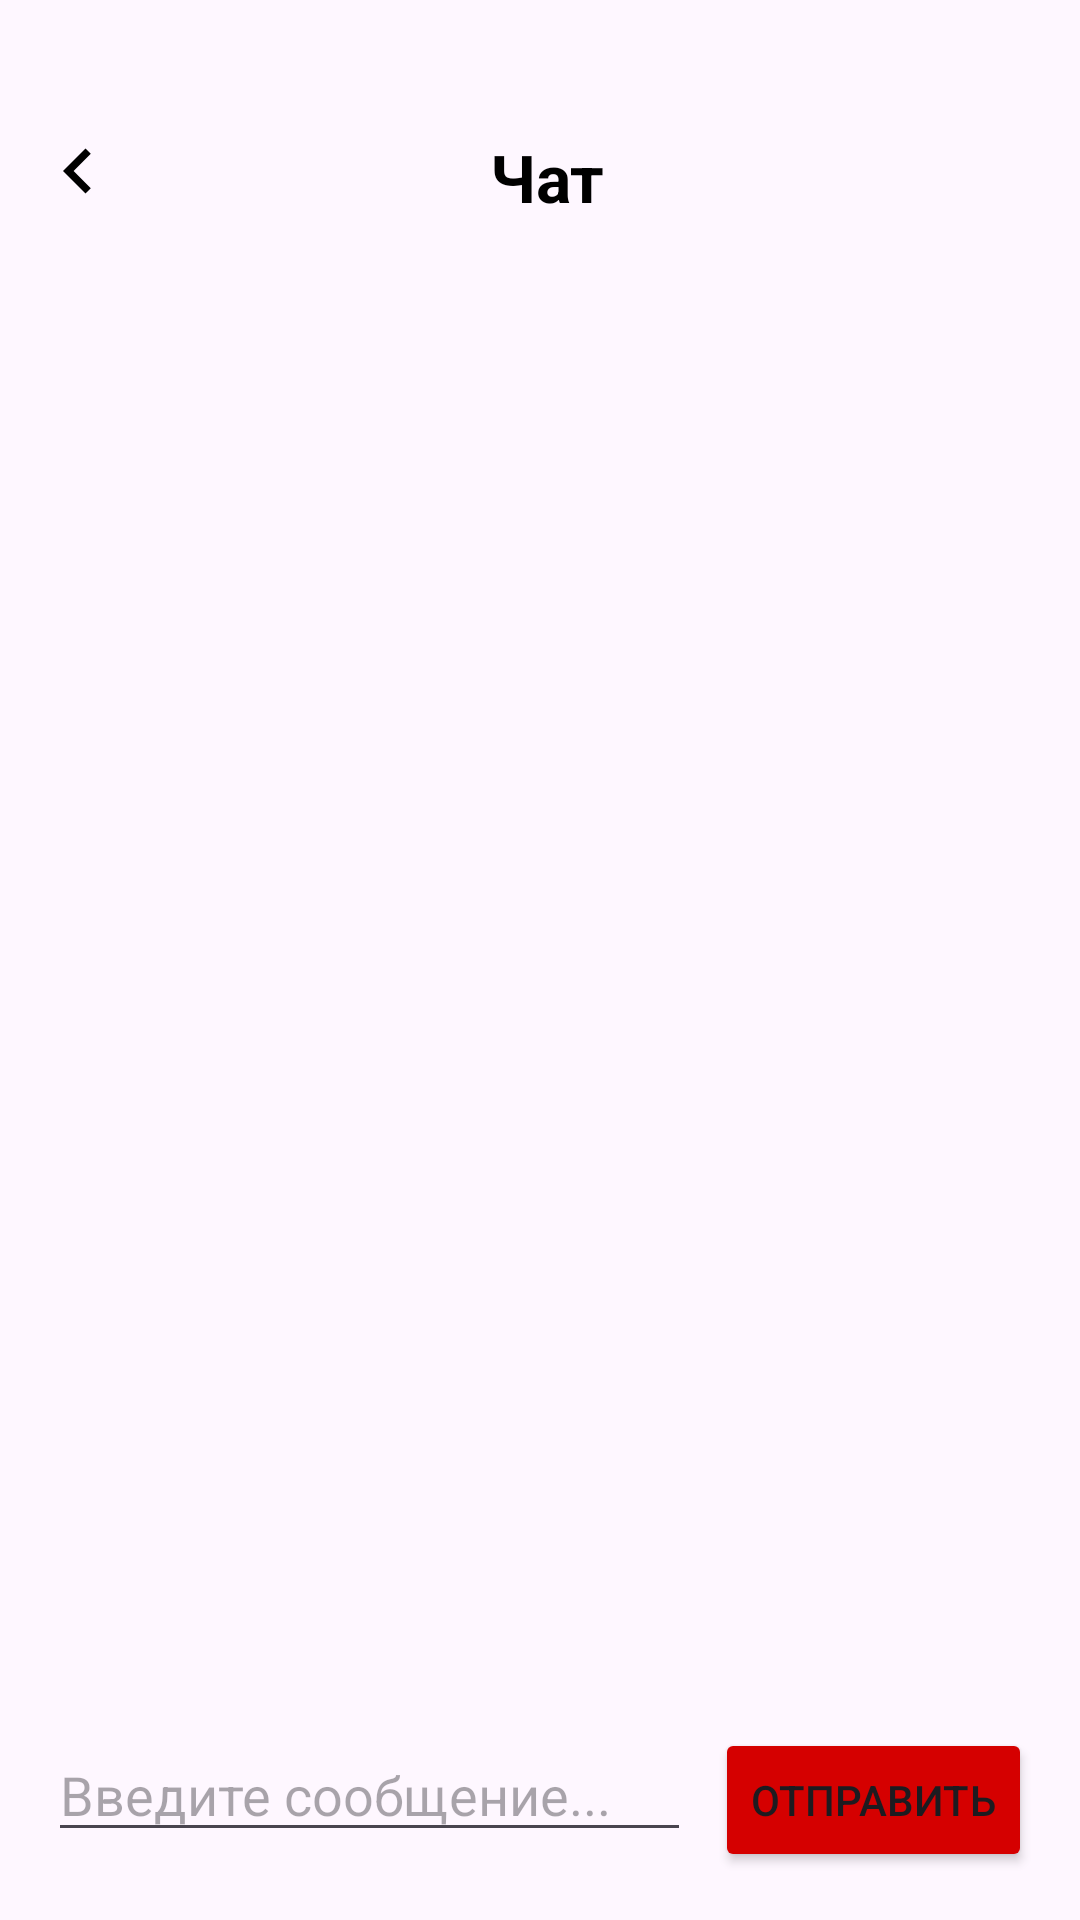

Where icons sit on this 1080w x 1920h app screen, as (x1, y1, x2, y2):
Нажмите, если хотите вернуться на предыдущий экран: (63, 148, 91, 194)
